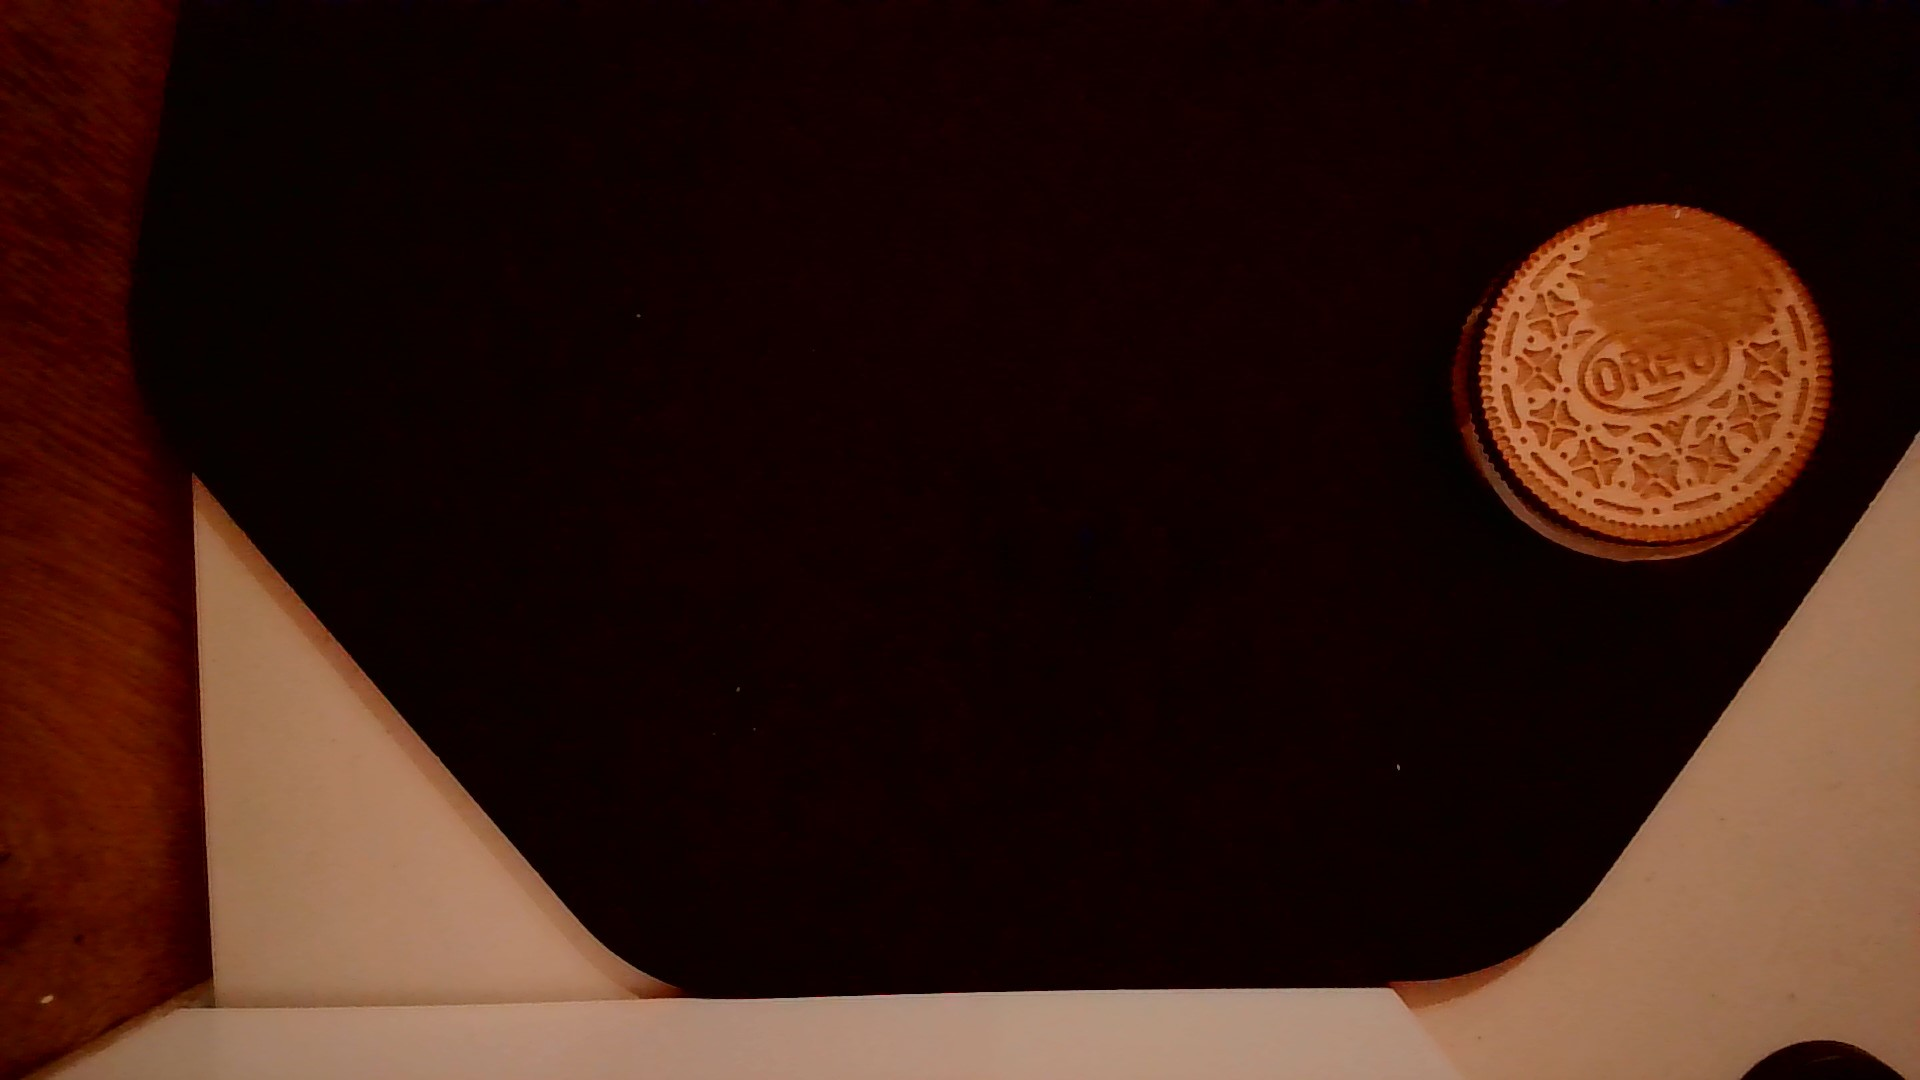Effacé: (1568, 196, 1782, 353)
Oréo: (1439, 200, 1840, 571)
